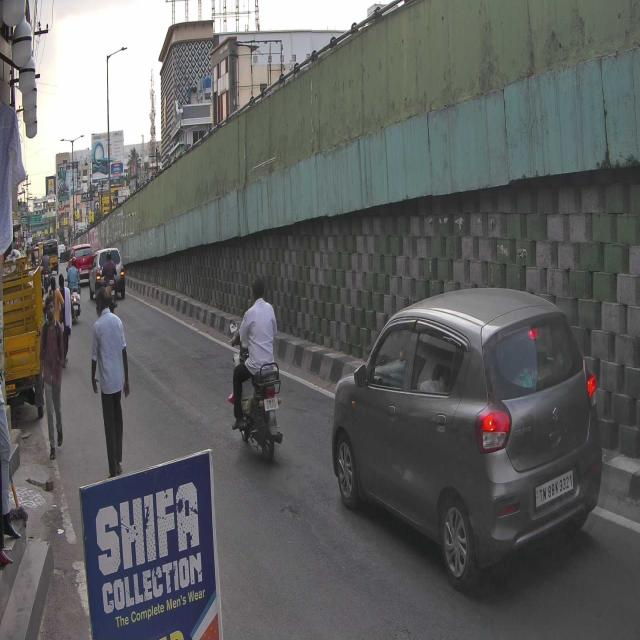single_rider: (229, 272, 285, 469)
